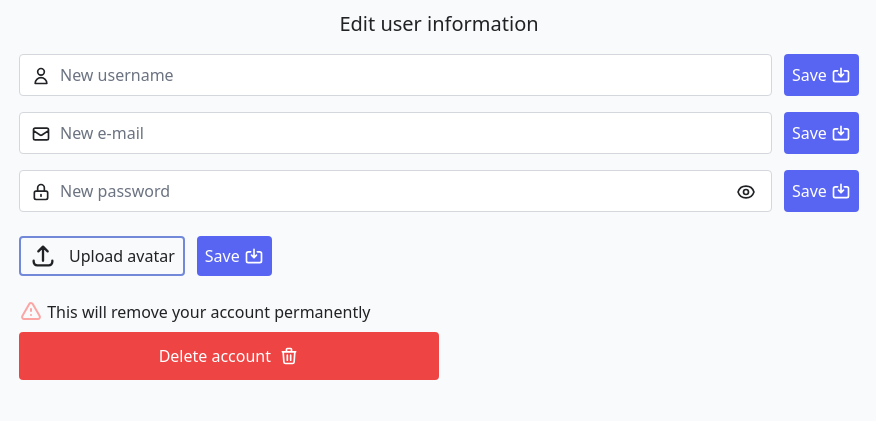
Test: Invalid values › Should display error message if password is invalid
Type "qw" into the password field named "password-input" at x=395, y=191, box [19,170,772,212]
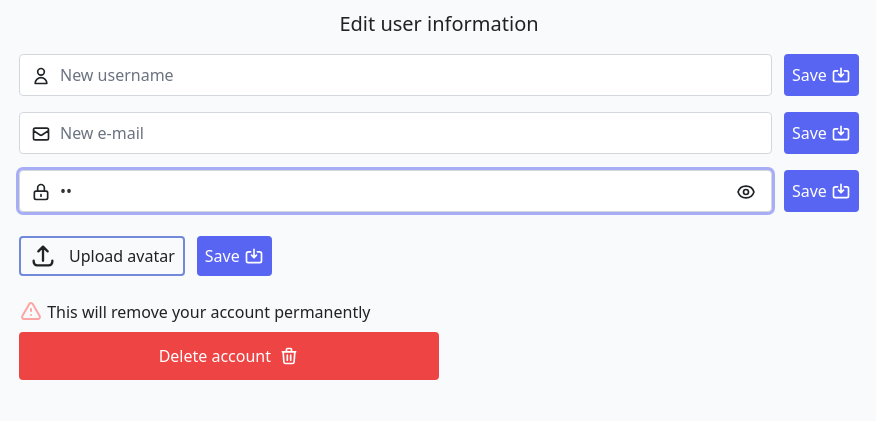
Click the button with aria-label "save-updated-password" at x=821, y=191, box [784,170,859,212]
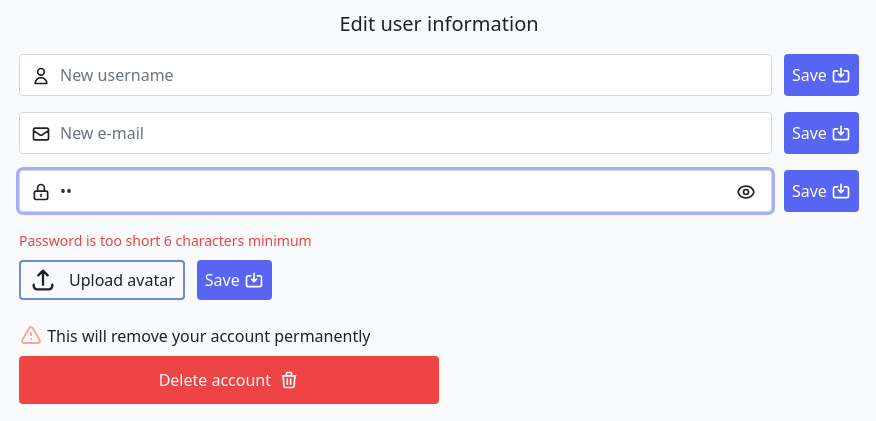
Expected: the text "Password is too short 6 characters minimum" is shown, [19,231,312,250]
